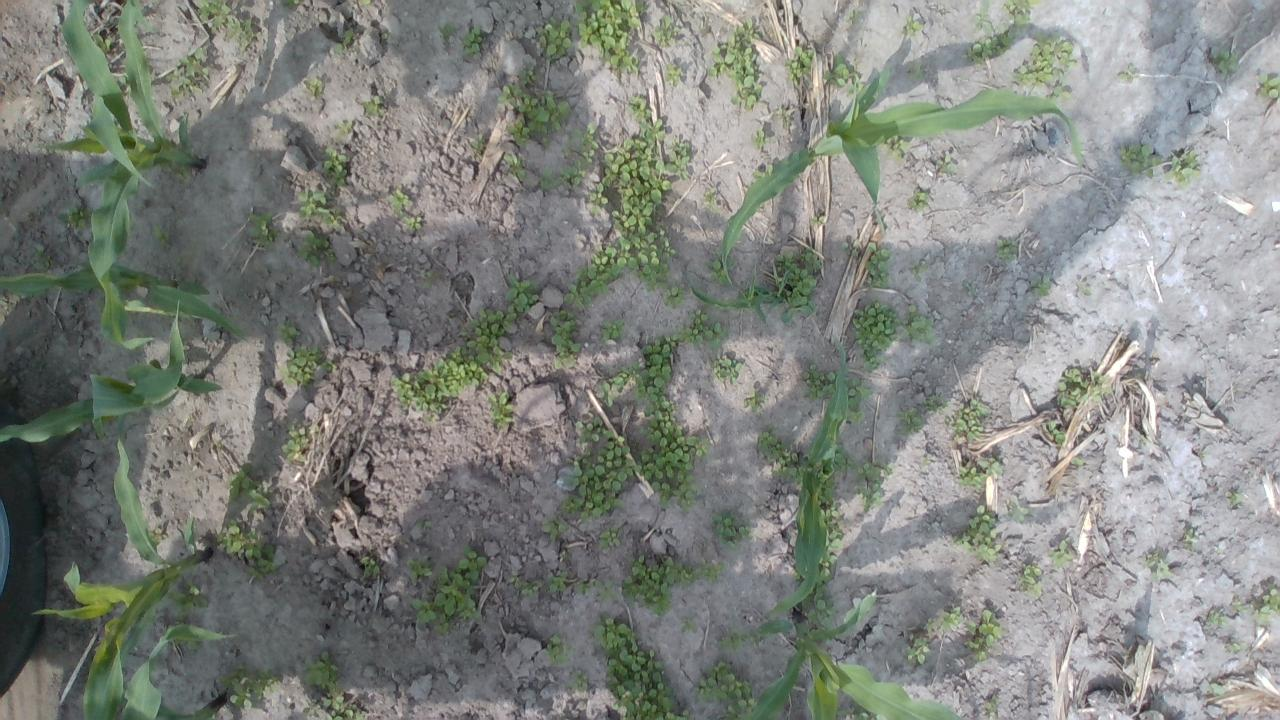Maize: (724, 71, 1082, 278), (36, 0, 205, 356), (32, 435, 206, 720), (0, 295, 221, 443), (718, 591, 967, 720), (770, 345, 850, 614), (0, 266, 247, 342), (80, 614, 231, 720)
Weeds: (390, 308, 519, 417), (603, 120, 678, 290), (594, 614, 692, 720), (640, 398, 711, 509), (560, 437, 642, 523), (415, 544, 484, 638), (709, 19, 764, 110), (622, 553, 692, 616), (563, 240, 621, 314), (218, 520, 284, 580), (575, 0, 646, 55), (1013, 30, 1077, 91), (694, 661, 758, 720), (772, 249, 822, 321), (507, 92, 570, 148), (852, 300, 902, 370), (756, 425, 808, 487), (217, 662, 285, 708), (816, 478, 846, 578), (953, 504, 1002, 564), (196, 0, 256, 48), (558, 120, 600, 186), (280, 346, 340, 390), (637, 334, 676, 401), (227, 463, 276, 510), (1056, 366, 1112, 407), (549, 308, 586, 370), (168, 576, 214, 620), (594, 362, 640, 406), (964, 608, 1001, 662), (167, 47, 206, 97), (858, 460, 892, 516), (798, 582, 836, 632), (679, 308, 726, 348), (536, 12, 574, 61), (293, 229, 338, 270), (951, 396, 990, 441), (296, 188, 342, 226), (711, 510, 755, 548), (660, 134, 694, 182), (968, 30, 1012, 66), (1120, 142, 1162, 179), (320, 689, 367, 720), (505, 272, 541, 312), (864, 243, 894, 290), (300, 650, 338, 687), (497, 65, 536, 101), (903, 304, 936, 346), (1166, 150, 1202, 187), (716, 626, 760, 656), (802, 361, 835, 400), (844, 378, 872, 422), (282, 421, 309, 465), (1253, 584, 1280, 626), (785, 46, 813, 85), (741, 272, 771, 308), (322, 147, 350, 185), (1003, 0, 1042, 27), (575, 414, 612, 442), (246, 209, 274, 246), (544, 634, 576, 666), (578, 579, 618, 604), (821, 54, 850, 88), (711, 352, 742, 383), (656, 14, 682, 48), (508, 572, 540, 599), (1142, 552, 1170, 582), (406, 555, 436, 582), (898, 406, 926, 434), (907, 636, 933, 666), (693, 561, 728, 583), (709, 258, 736, 286), (1253, 72, 1280, 100), (597, 317, 626, 343), (488, 390, 512, 421), (604, 53, 640, 73), (1022, 563, 1044, 595), (503, 152, 528, 180), (832, 443, 856, 472), (1048, 538, 1072, 567), (461, 21, 482, 54), (974, 0, 995, 33), (64, 204, 88, 232), (885, 134, 913, 158), (596, 524, 622, 549), (388, 186, 413, 212), (626, 93, 651, 119), (958, 463, 984, 488), (1214, 51, 1240, 76), (924, 390, 951, 414), (361, 555, 387, 579), (534, 166, 560, 190), (996, 238, 1019, 264), (568, 666, 590, 692), (940, 606, 961, 633), (587, 180, 607, 208), (983, 456, 1005, 481), (542, 517, 568, 538), (936, 152, 959, 175), (848, 705, 883, 720), (278, 318, 298, 344), (334, 30, 356, 53), (362, 94, 386, 115), (1046, 85, 1074, 103), (152, 222, 172, 246), (664, 284, 688, 304), (843, 595, 861, 621), (32, 241, 48, 270), (89, 30, 112, 50), (900, 15, 923, 35), (1048, 419, 1066, 444), (1010, 503, 1030, 524), (136, 12, 156, 33), (842, 240, 862, 260), (1230, 596, 1250, 616), (1034, 274, 1052, 296), (550, 572, 567, 594), (911, 260, 928, 282), (909, 190, 928, 209), (776, 104, 791, 127), (114, 72, 131, 92), (746, 389, 762, 410), (1208, 608, 1226, 626), (1118, 66, 1136, 84), (751, 164, 774, 178), (408, 214, 424, 234), (664, 62, 680, 82), (306, 78, 322, 98), (752, 126, 768, 146), (703, 188, 718, 209), (150, 527, 168, 544), (1181, 528, 1198, 546), (849, 78, 864, 98), (438, 21, 456, 35), (1210, 681, 1226, 696), (681, 616, 696, 632), (910, 65, 924, 82), (986, 696, 999, 714), (175, 165, 192, 178), (848, 9, 862, 24), (422, 269, 433, 288), (336, 121, 352, 134), (811, 214, 827, 227), (1229, 490, 1243, 504), (471, 134, 483, 149), (416, 519, 434, 529), (1138, 433, 1152, 444), (1232, 641, 1244, 653), (282, 0, 299, 8), (1071, 456, 1083, 466), (359, 0, 372, 8), (1081, 287, 1087, 294)
